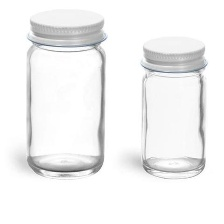bottle: (20, 5, 114, 180), (137, 31, 208, 183)
